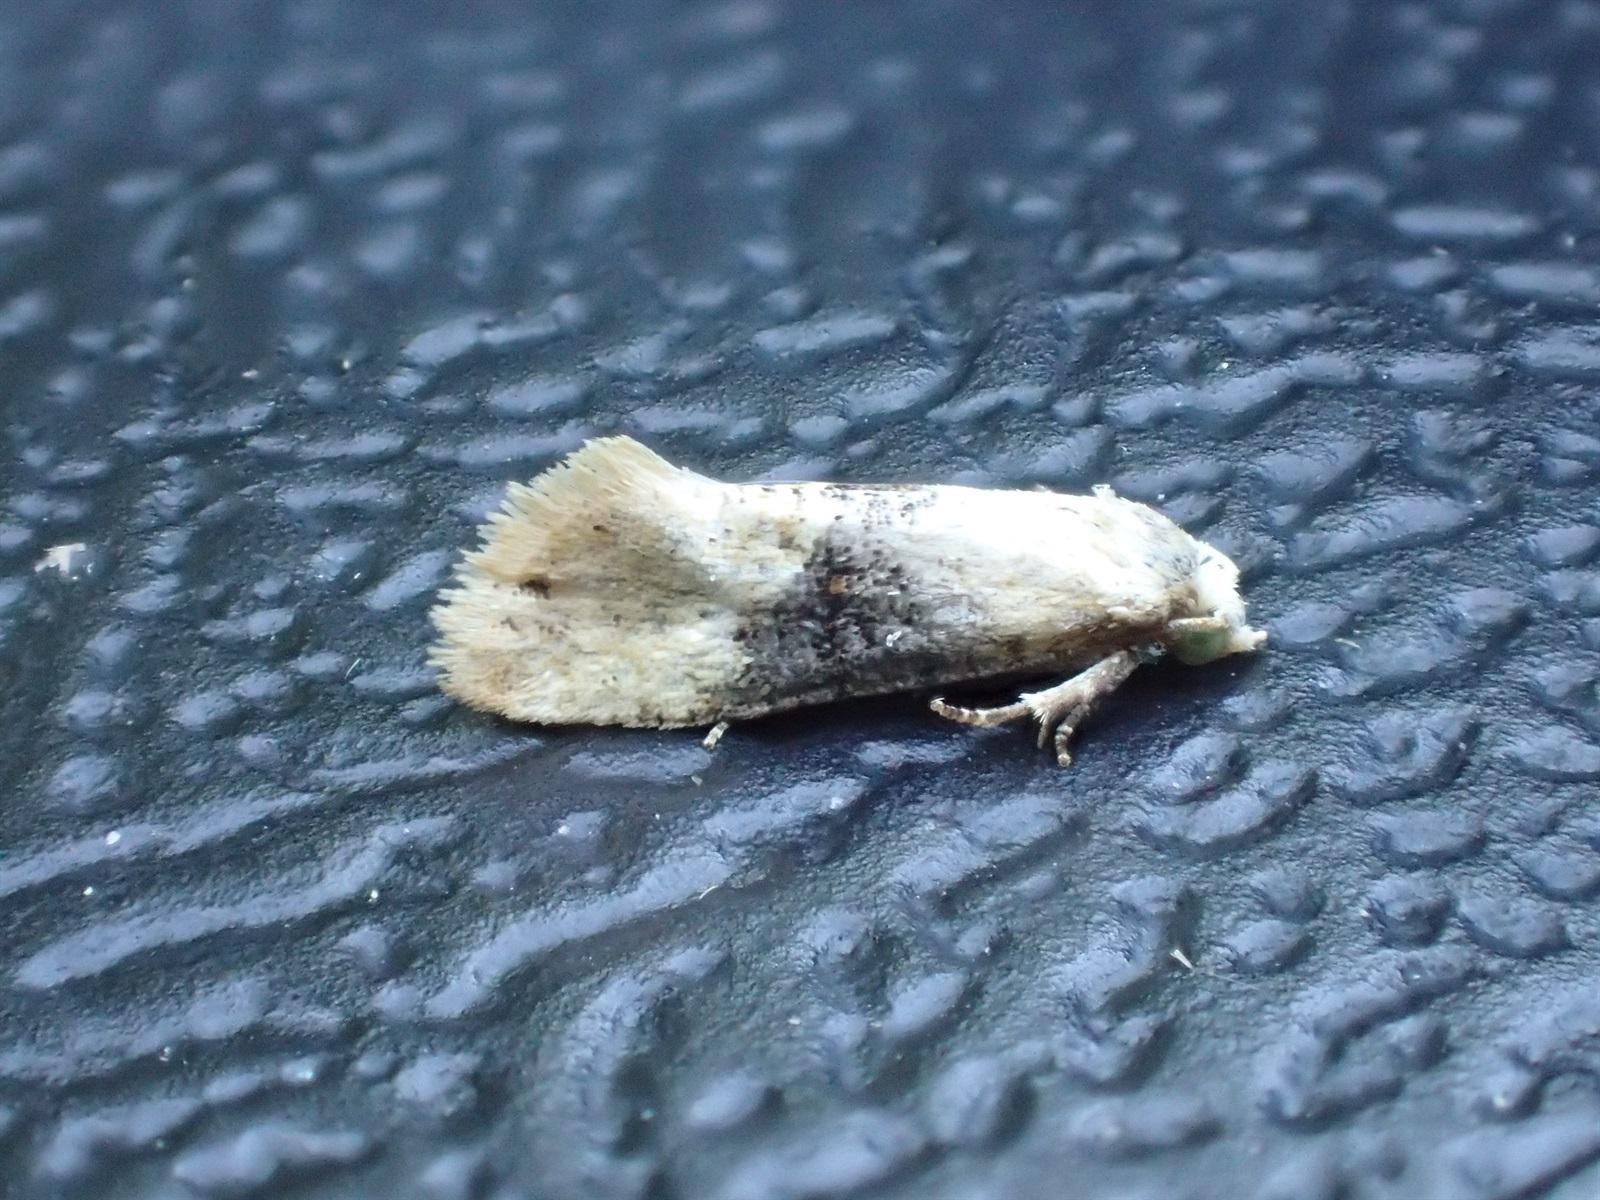Eupoecilia Ambiguella: (422, 429, 1270, 770)
